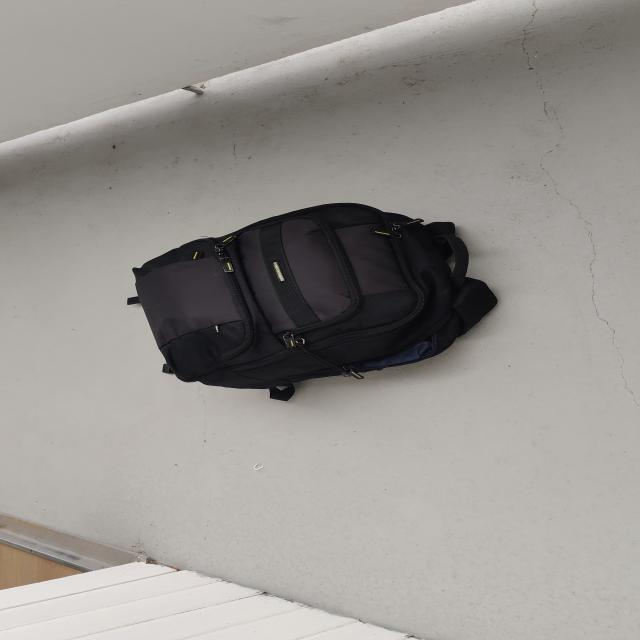backpack: (120, 197, 508, 398)
